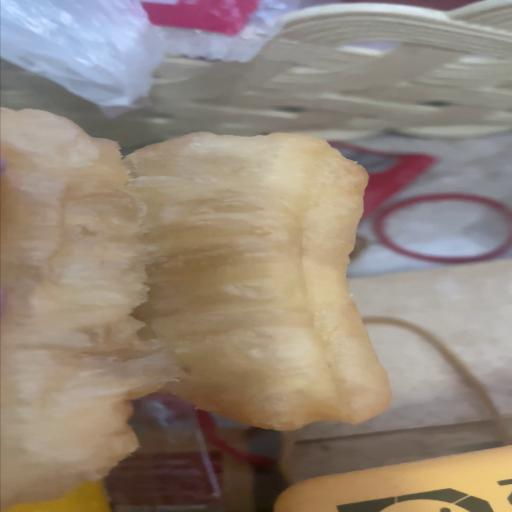street_golden_defect: (0, 130, 389, 502)
